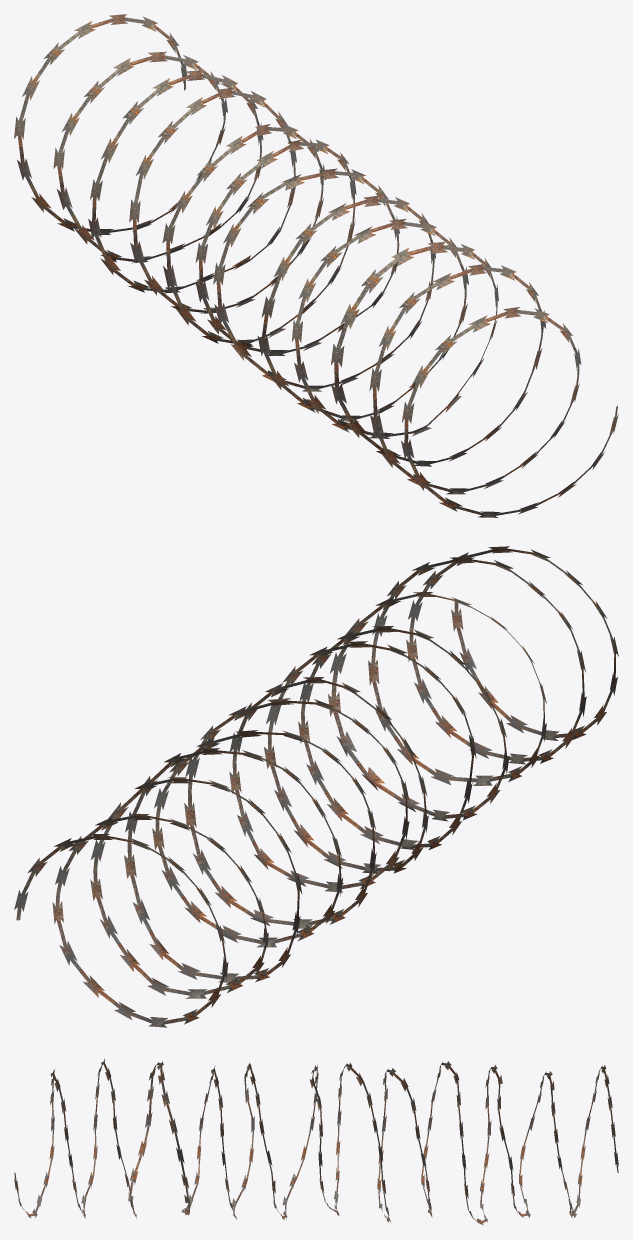
File: 3D_Natodraht_001.fbx
The picture shows the model from 3 angles, top to bottom: view 1: azimuth 30°, elevation 25°; view 2: azimuth 150°, elevation 25°; view 3: azimuth 270°, elevation 25°; orthographic projection. The views are drawn at different scales.
Visible parts, largest first — view 1: Natodraht_001; view 2: Natodraht_001; view 3: Natodraht_001.
Boxes of the visible parts, bbox=[...] form: Natodraht_001: bbox=[14, 14, 618, 517]; Natodraht_001: bbox=[14, 546, 618, 1027]; Natodraht_001: bbox=[14, 1058, 618, 1225].
Size of the model in its own units: 3.11 by 3.34 by 12.04.
